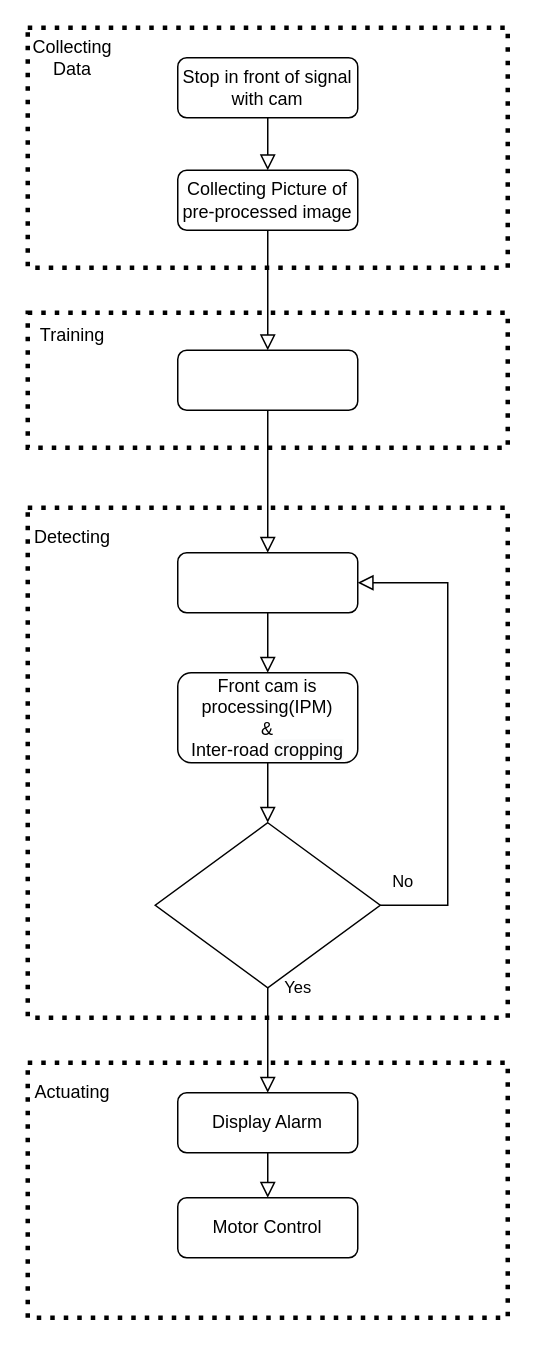
This 536x1346 diagram has some shape labels left out. Here are the shapes that lost their labels. From the top down, the centre of each, then its label:
(267,379): Train ANN with cropped image
(267,582): Driving Misc. road
(267,904): Trainned image is in inter-road image of cam?
